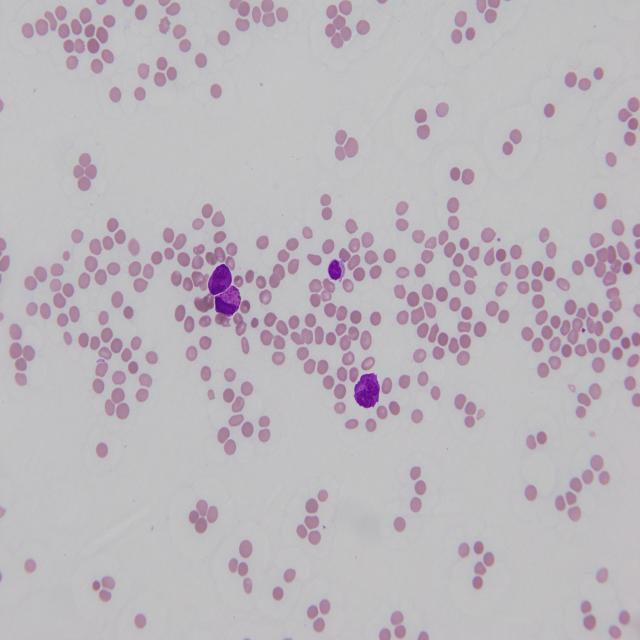cell: (354, 373, 380, 408), (215, 285, 241, 316), (208, 265, 231, 295), (328, 260, 345, 280)
